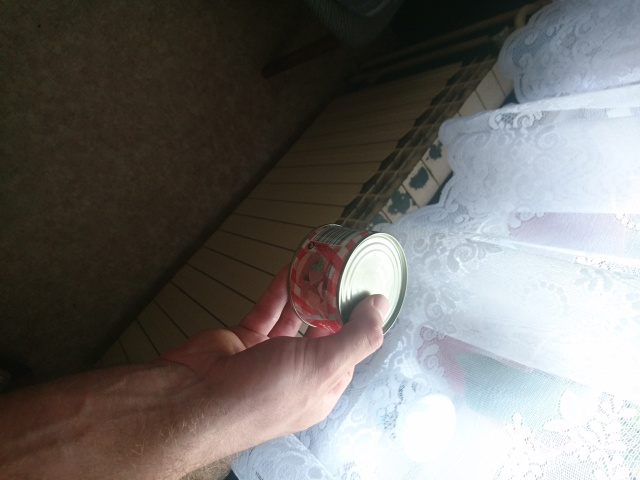Podravka Luncheon Meat 150g: (284, 221, 411, 348)
